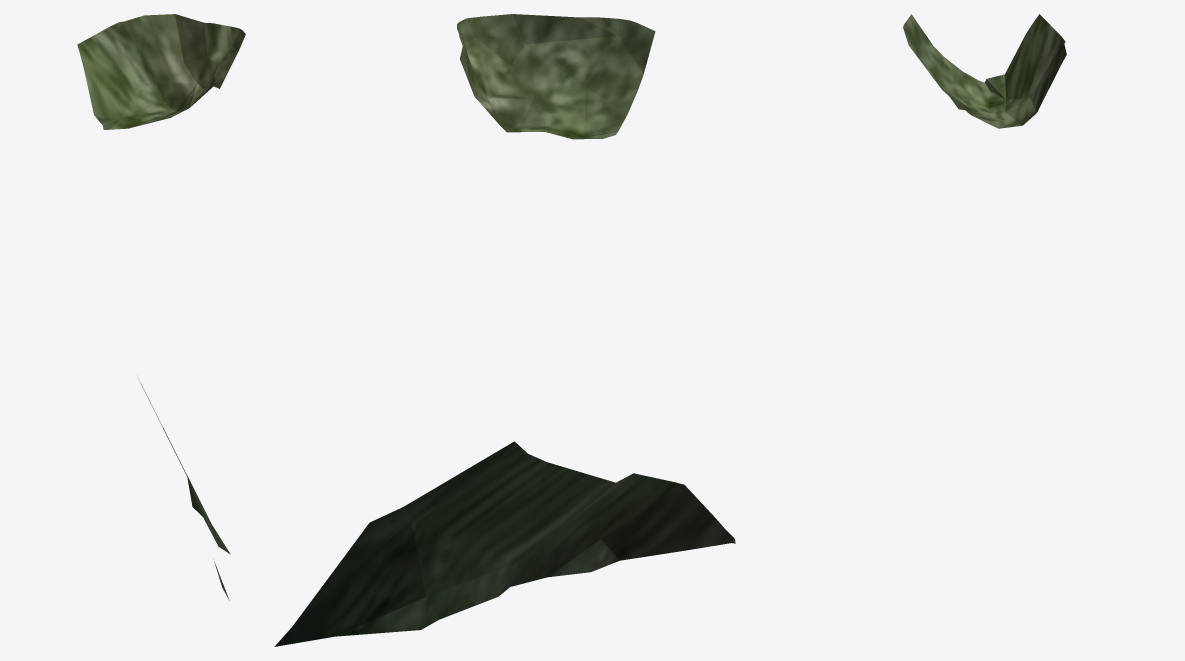
The picture shows the model from 3 angles, left to right: view 1: azimuth 30°, elevation 25°; view 2: azimuth 150°, elevation 25°; view 3: azimuth 270°, elevation 25°; orthographic projection. The views are drawn at different scales.
Bounding box in the file's own units: 1.3 × 2.95 × 2.07.
Materials: 1 (1 with a texture image).
